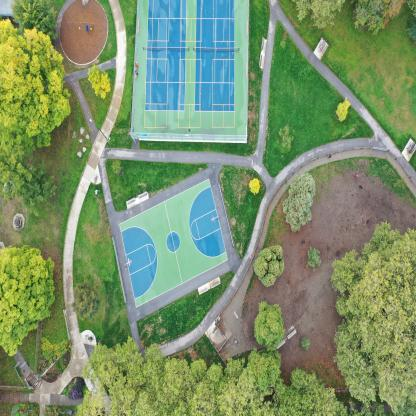Coniferous Tree: (18, 159, 60, 215), (11, 0, 58, 39), (287, 174, 315, 232), (72, 279, 102, 322), (352, 0, 384, 40), (254, 247, 286, 285), (307, 247, 322, 273), (405, 16, 416, 43), (111, 159, 122, 174), (301, 336, 311, 349)
Deciduous Tree: (331, 212, 415, 416), (0, 31, 69, 154), (0, 244, 55, 357), (94, 341, 139, 416), (285, 371, 345, 416), (208, 362, 251, 416), (167, 361, 209, 416), (137, 344, 167, 416), (292, 0, 344, 30), (245, 351, 282, 393), (252, 302, 284, 346), (0, 150, 28, 192), (252, 396, 289, 416), (88, 66, 109, 96), (336, 96, 350, 122), (248, 176, 260, 195)
